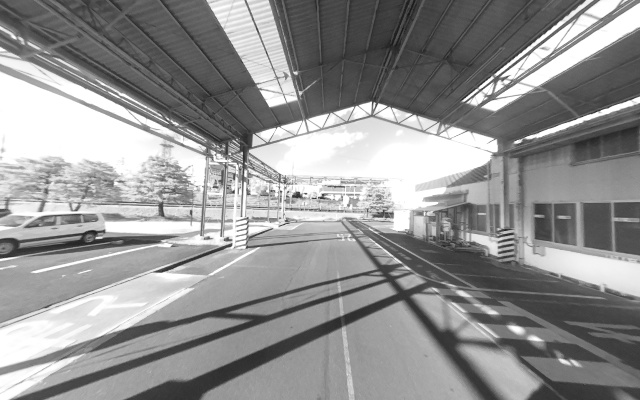bollard: (496, 227, 518, 265), (231, 215, 250, 252)
